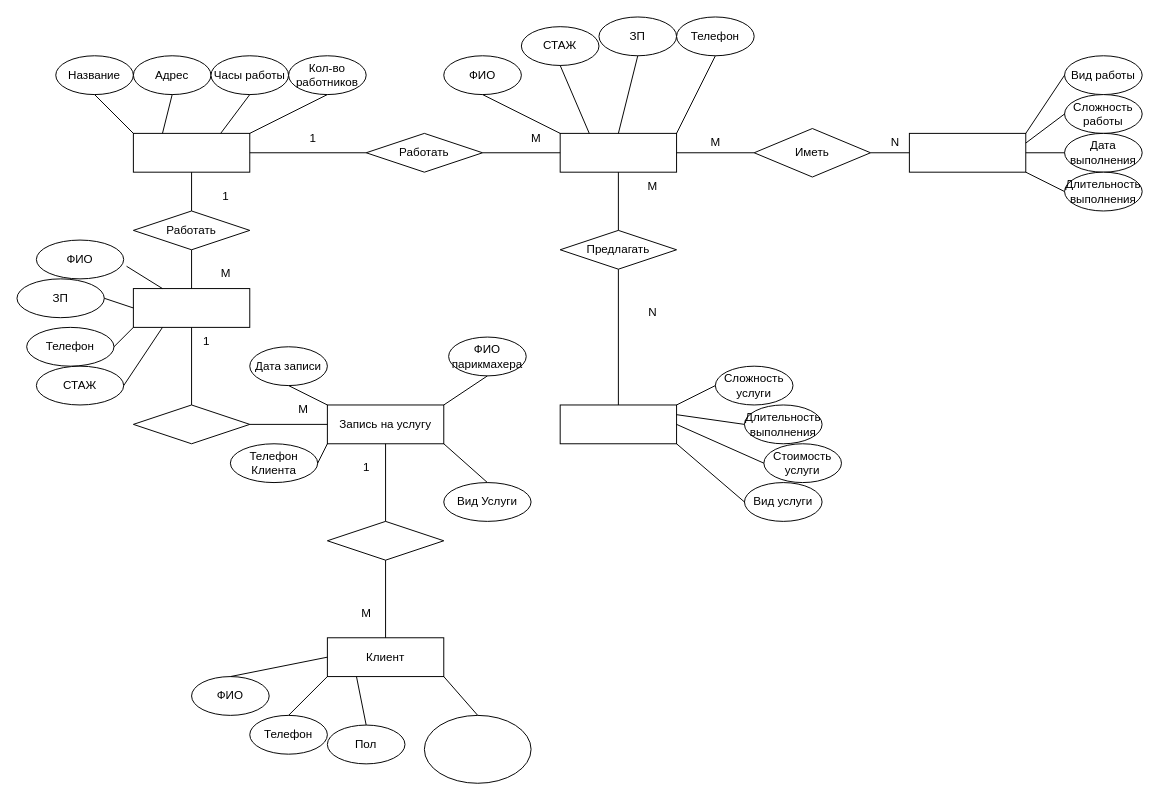
Some shapes in this 1159 by 800 pixel diagram are drawn without their labels. The shapes that lost their labels are listed below. From the top down, each one's centre as x and y in pixels, then its label:
pixel 191 152: Парикмахерская
pixel 618 152: Парикмахер
pixel 967 152: Выполненные работы
pixel 191 307: Администратор
pixel 191 424: Создать запись
pixel 618 424: Услуги
pixel 385 540: Записаться
pixel 477 748: "откуда узнал о парикмахерской?"
